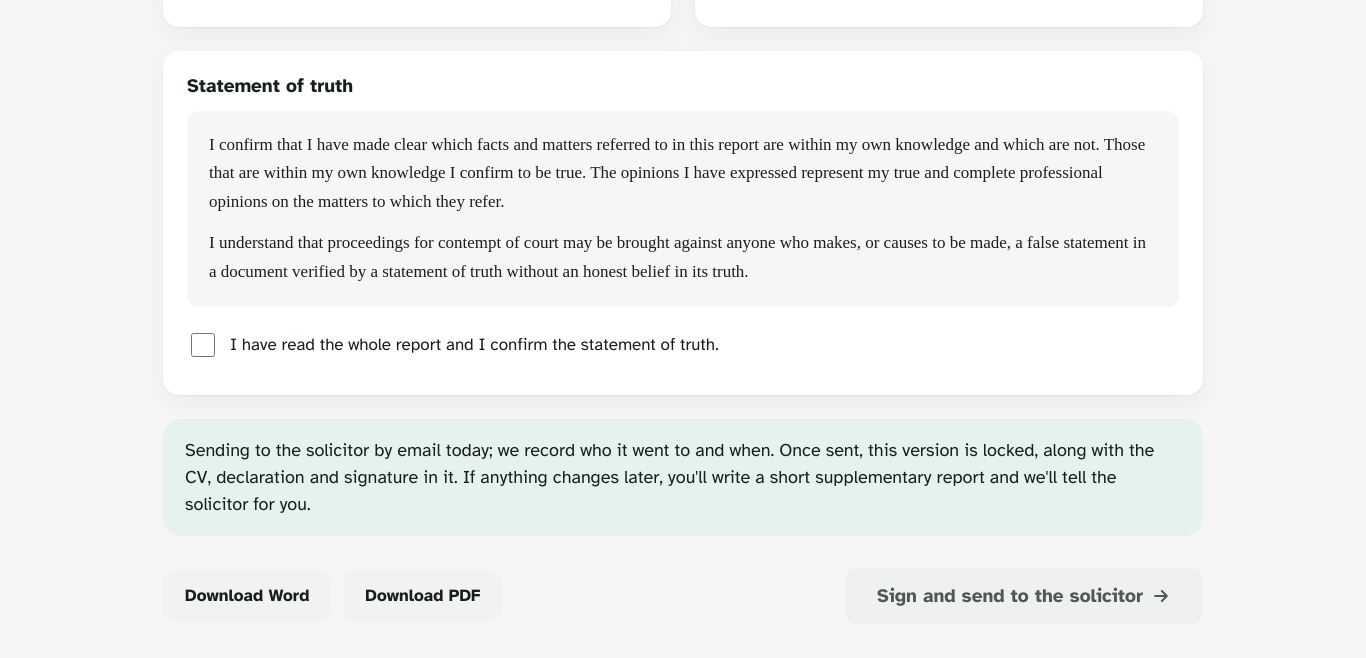
Test case: a refused signing (final_check_needed) is explained in plain words
(page scrolled)
Step 1. Click the checkbox labelled "I have read the whole report and I confirm the " → (203,345), box [191, 333, 215, 357]
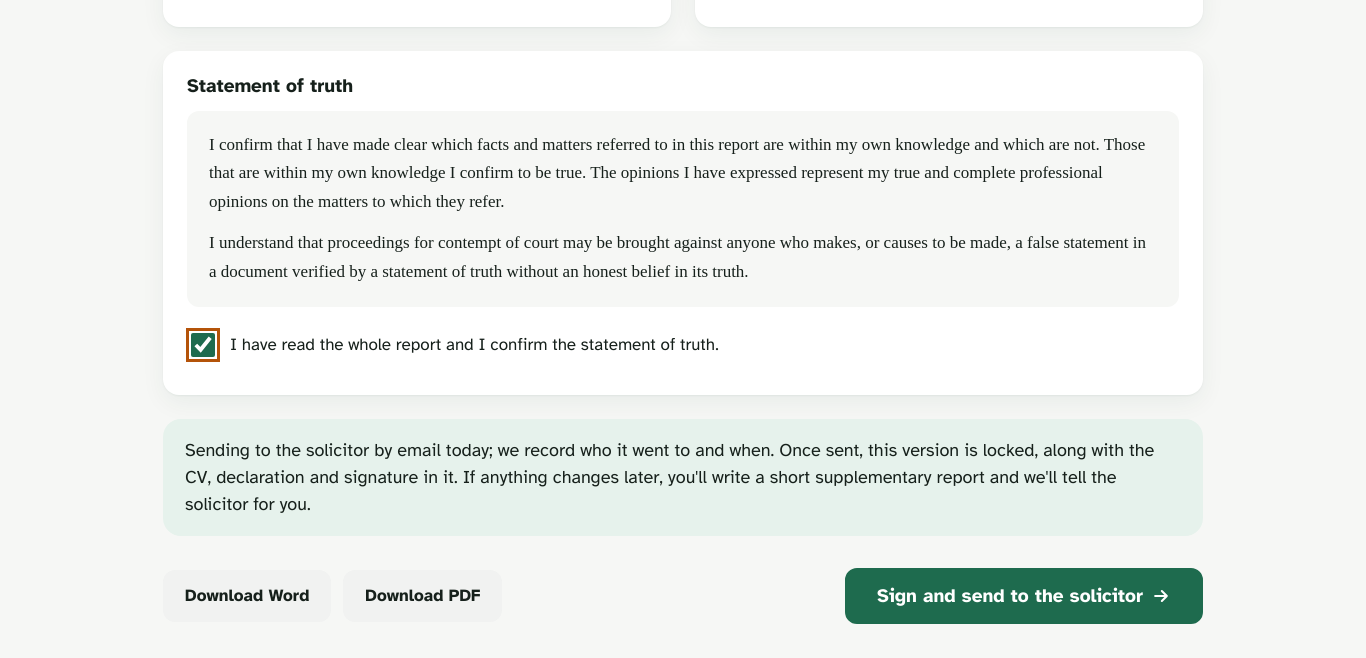
Step 2. Click the button "Sign and send to the solicitor" → (1024,596), box [845, 568, 1203, 624]
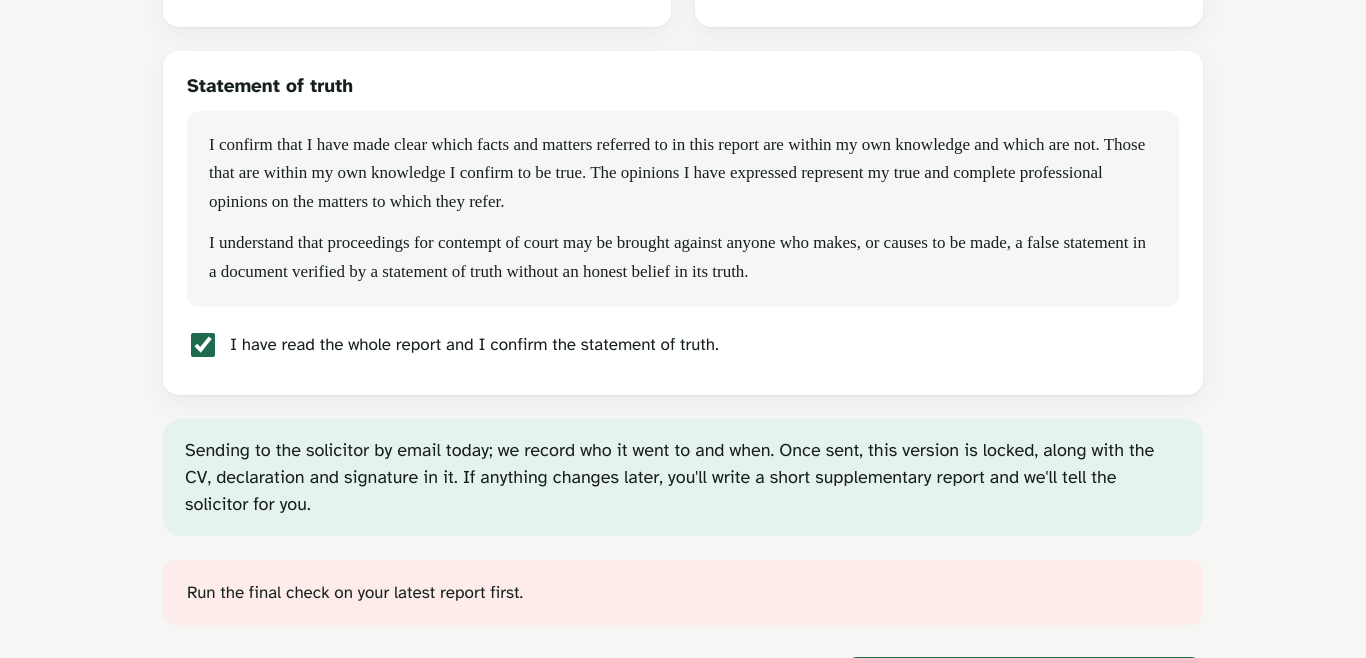
Expected: the text "Run the final check on your latest report first." is shown, [187, 582, 523, 603]
